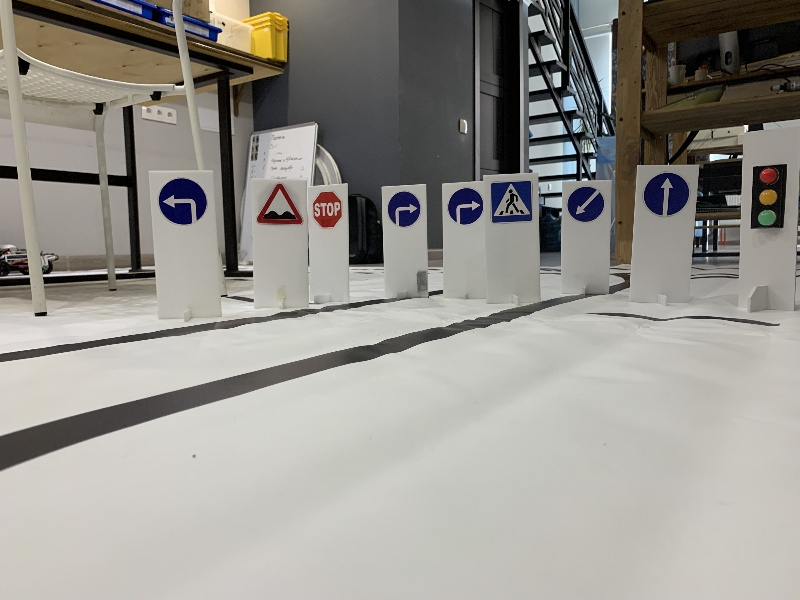Left: (158, 176, 206, 228)
Nerov: (258, 182, 302, 227)
Right: (446, 187, 484, 227), (388, 190, 419, 228)
Stop: (307, 189, 342, 227)
forw: (642, 171, 691, 218)
pesh: (489, 178, 534, 223)
prep: (565, 186, 605, 223)
